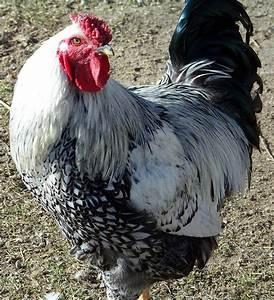hen: (7, 0, 264, 299)
